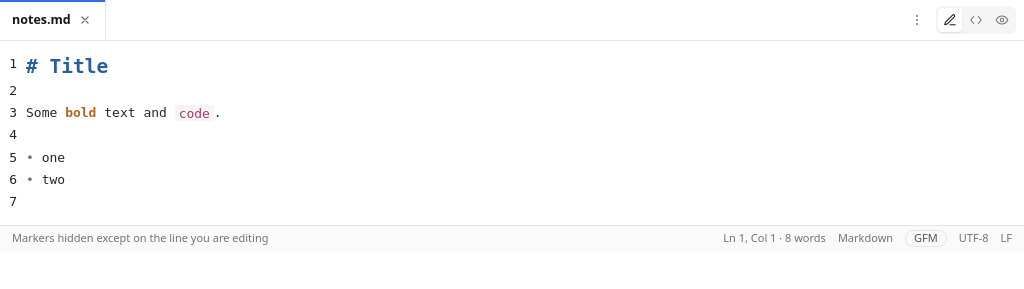
Test: EditorPanel › renders the document as prose in Preview mode
Click the button named "Preview" at x=1002, y=20, box [990,8,1014,32]
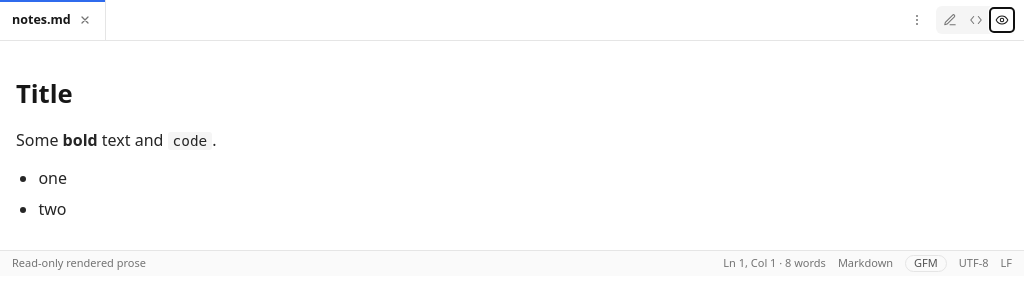
Expected: the heading "Title" is shown, [16,76,73,111]
Expected: the number of list items is 2, [38,167,67,189]; [38,198,66,220]
